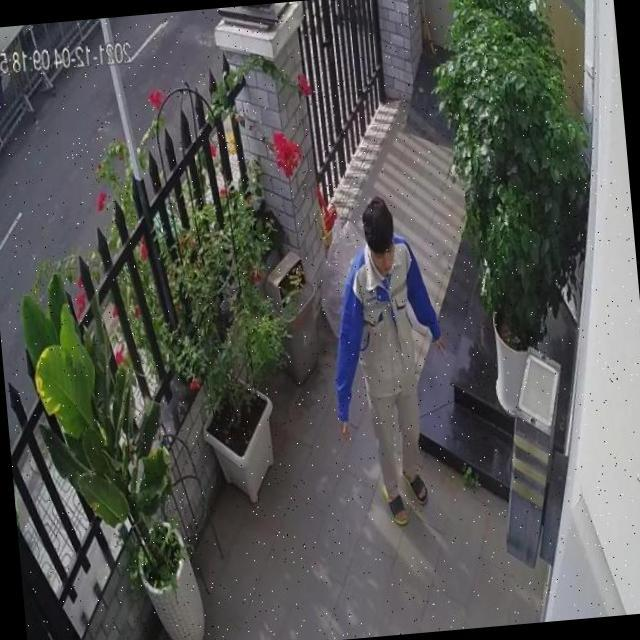person: (316, 191, 456, 523)
